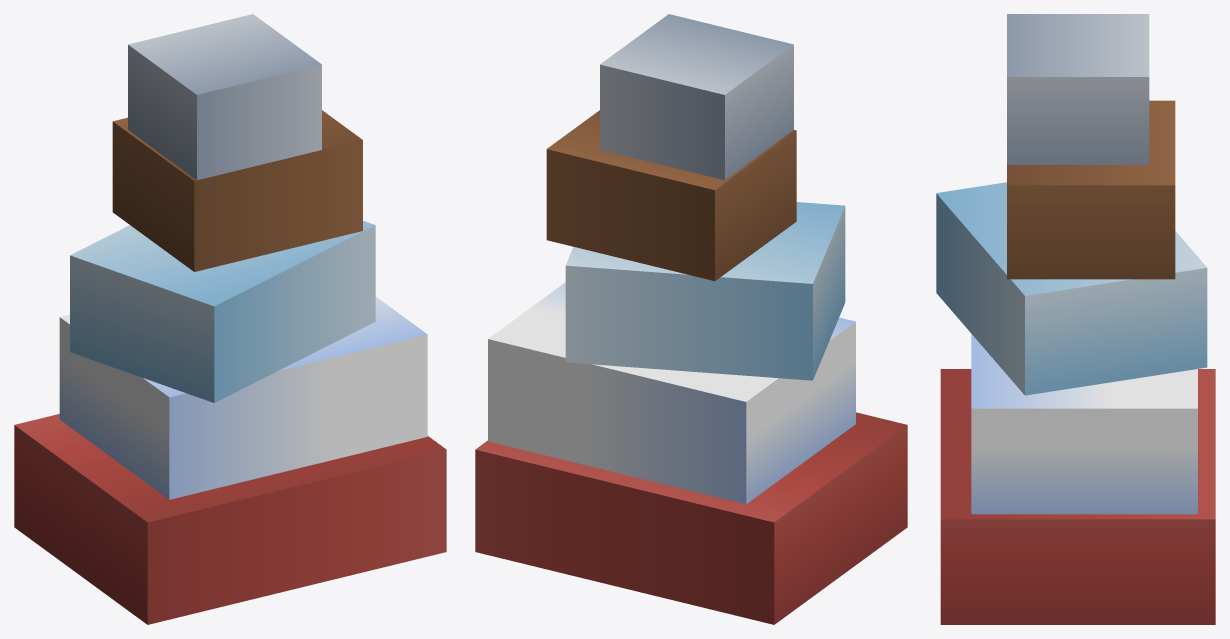
File: block_stack.fbx
3 views of the same model, side by side, from view 1: azimuth 30°, elevation 25°; view 2: azimuth 150°, elevation 25°; view 3: azimuth 270°, elevation 25° (orthographic). The views are drawn at different scales.
Visible parts, largest first — view 1: block_stack; view 2: block_stack; view 3: block_stack.
Boxes of the visible parts, bbox=[...] form: block_stack: bbox=[14, 14, 446, 624]; block_stack: bbox=[475, 14, 907, 624]; block_stack: bbox=[936, 14, 1215, 624].
Size of the model in its own units: 122 by 190 by 96.
